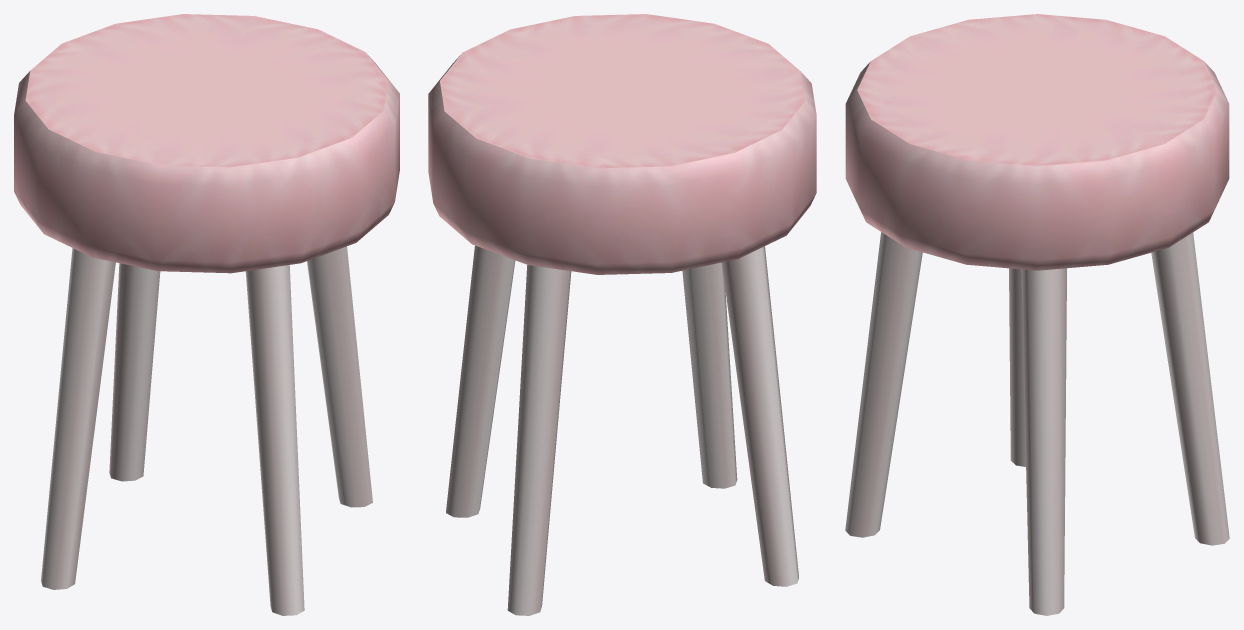
The model's file is Bedroom MUTableSeat.fbx.
3 renders of one model, left to right at view 1: azimuth 30°, elevation 25°; view 2: azimuth 150°, elevation 25°; view 3: azimuth 270°, elevation 25°, orthographic. The views are drawn at different scales.
Parts seen in each view (by area): view 1: Bedroom MUTableSeat; view 2: Bedroom MUTableSeat; view 3: Bedroom MUTableSeat.
Part boxes in pixels (x1,y1,x2,y2): Bedroom MUTableSeat: (14,14,399,615); Bedroom MUTableSeat: (428,14,816,615); Bedroom MUTableSeat: (845,14,1229,615).
Bounding box in the file's own units: 0.4845 × 0.618 × 0.4845.
1 material, 1 textured.
